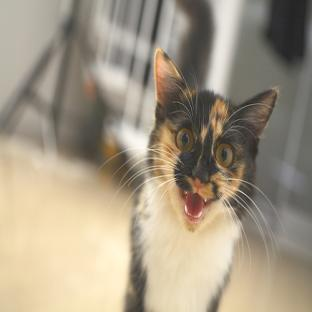Animal: (124, 48, 278, 311)
